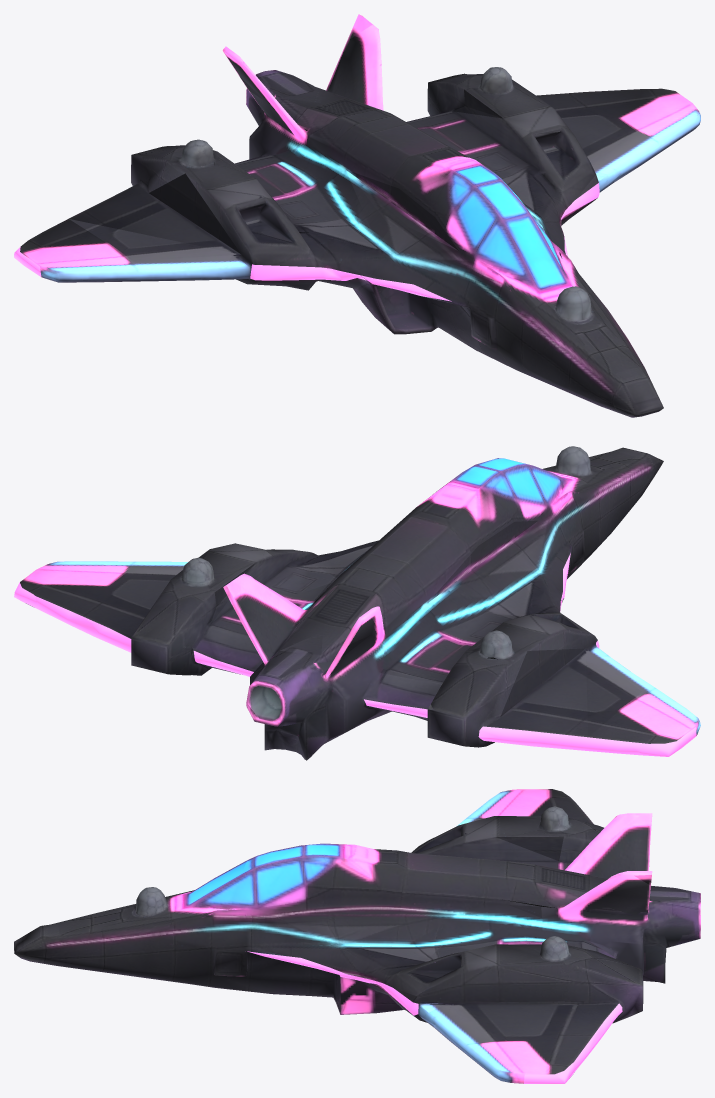
The model's file is plane-jet-4.glb.
3 renders of one model, top to bottom at view 1: azimuth 30°, elevation 25°; view 2: azimuth 150°, elevation 25°; view 3: azimuth 270°, elevation 25°, orthographic. The views are drawn at different scales.
Parts seen in each view (by area): view 1: plane_opt.002; view 2: plane_opt.002; view 3: plane_opt.002.
Part boxes in pixels (left/top/right/bottom): plane_opt.002: left=14, top=14, right=700, bottom=417; plane_opt.002: left=14, top=446, right=700, bottom=760; plane_opt.002: left=14, top=789, right=700, bottom=1083.
Size of the model in its own units: 2 by 0.471 by 2.03.
Materials: 1 (1 with a texture image).
